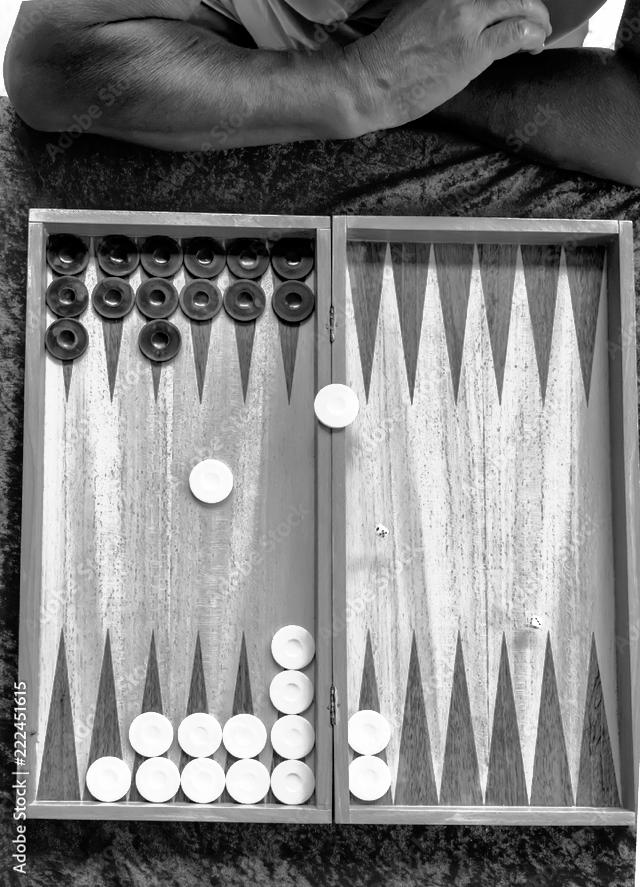bar: (319, 229, 349, 800)
board: (38, 223, 631, 816)
dark_p: (266, 274, 320, 329), (266, 234, 320, 282), (180, 275, 228, 326), (89, 274, 138, 323), (43, 315, 94, 362), (223, 278, 269, 328), (224, 234, 271, 282), (135, 318, 182, 365), (45, 230, 90, 278), (45, 273, 91, 319), (139, 233, 185, 279), (181, 233, 226, 279), (96, 232, 140, 275), (135, 276, 181, 316)
dice: (370, 523, 395, 541), (528, 612, 546, 632)
light_p: (176, 706, 225, 760), (268, 622, 320, 672), (128, 710, 180, 760), (344, 705, 393, 756), (84, 753, 135, 801), (270, 711, 318, 760), (315, 380, 362, 430), (186, 457, 235, 504), (345, 755, 392, 804), (179, 755, 226, 804), (220, 714, 271, 759), (269, 669, 314, 719), (228, 759, 274, 806), (136, 760, 180, 806)
